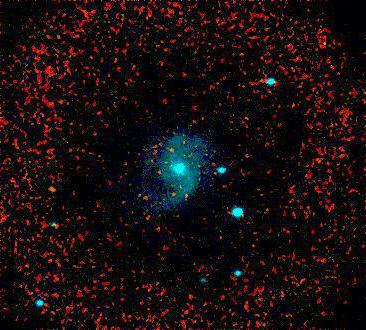star: (34, 172, 64, 202)
